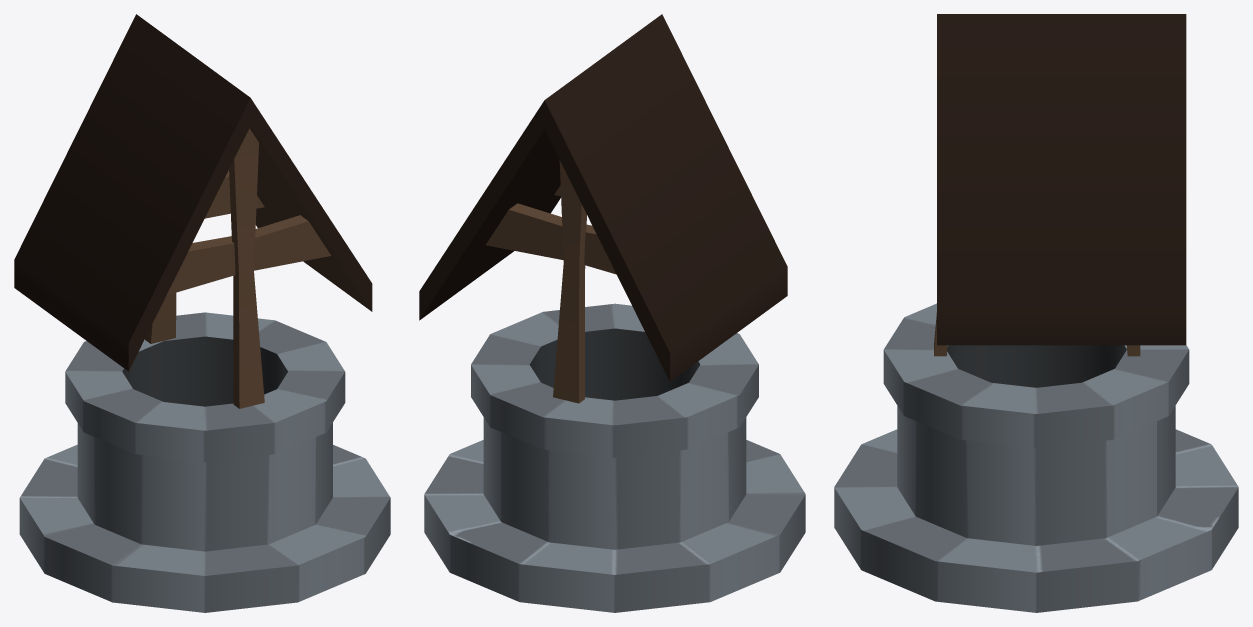
Rendered from pool.FBX.
3 renders of one model, left to right at view 1: azimuth 30°, elevation 25°; view 2: azimuth 150°, elevation 25°; view 3: azimuth 270°, elevation 25°, orthographic. The views are drawn at different scales.
Parts seen in each view (by area): view 1: Cylinder001; view 2: Cylinder001; view 3: Cylinder001.
Part boxes in pixels (x1,y1,x2,y2): Cylinder001: (14,14,390,612); Cylinder001: (419,14,805,612); Cylinder001: (834,14,1238,612).
Size of the model in its own units: 46.28 by 66.04 by 46.28.
